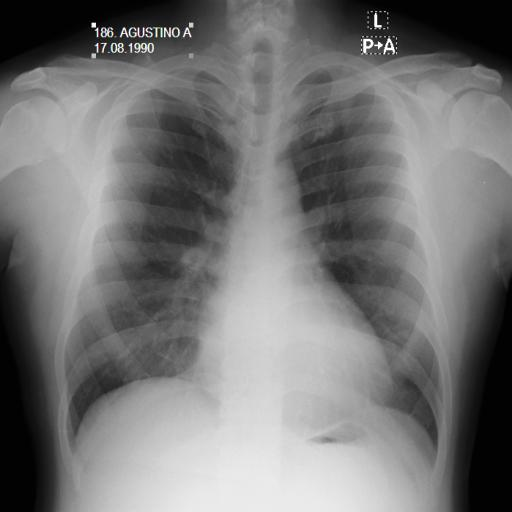kardiomegali: (50, 41, 450, 466)
